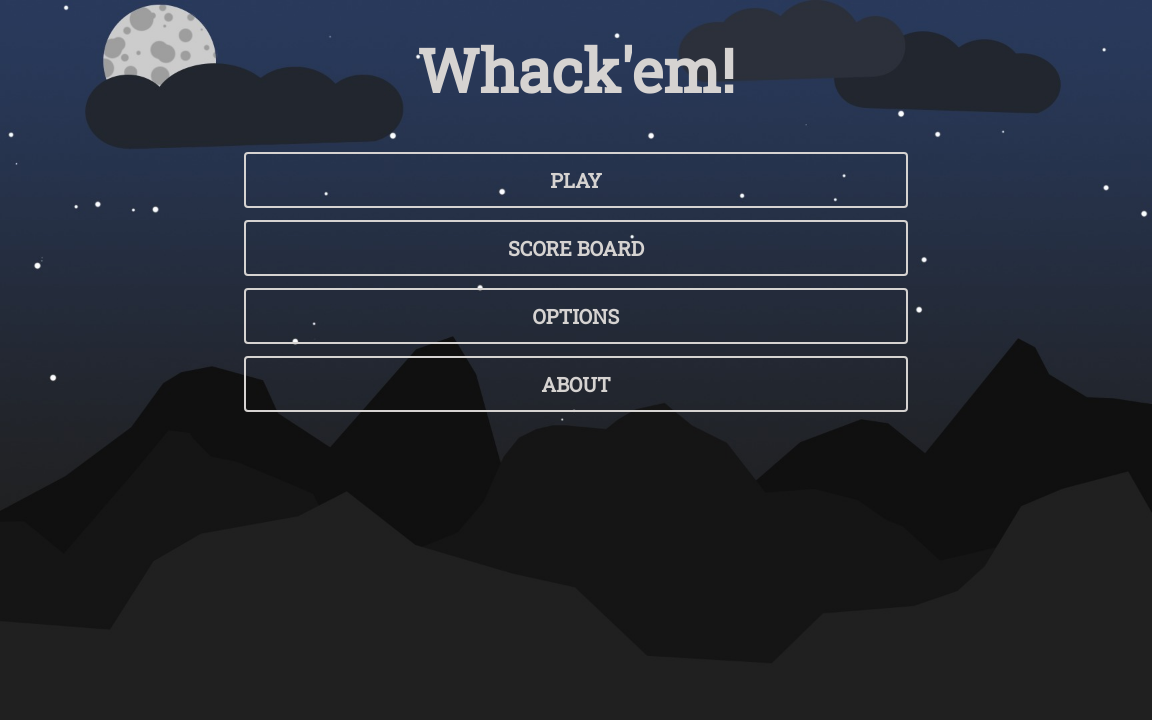
Test: whack-em home › opens a game when player name is set
The width and height of the screenshot is (1152, 720).
Click the link with id "game_btn" at (576, 180), box x1=244 y1=152 x2=908 y2=208
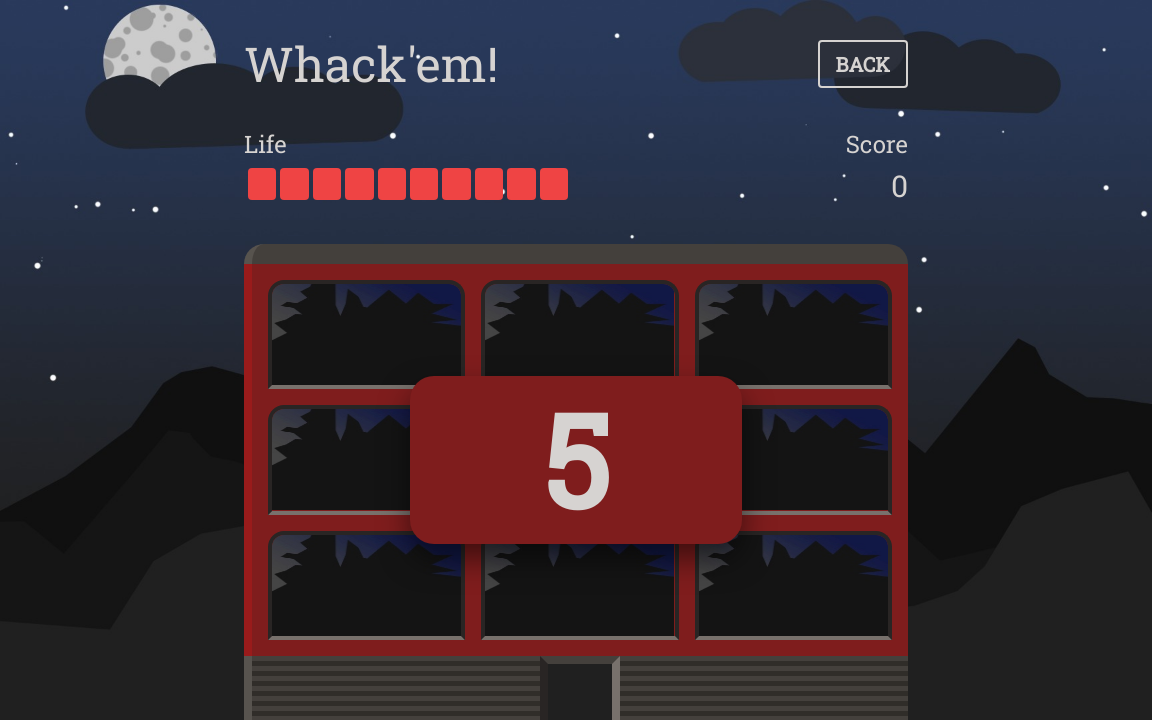
Expected: the element with id "windows_grid" is shown, x1=244 y1=264 x2=908 y2=656
